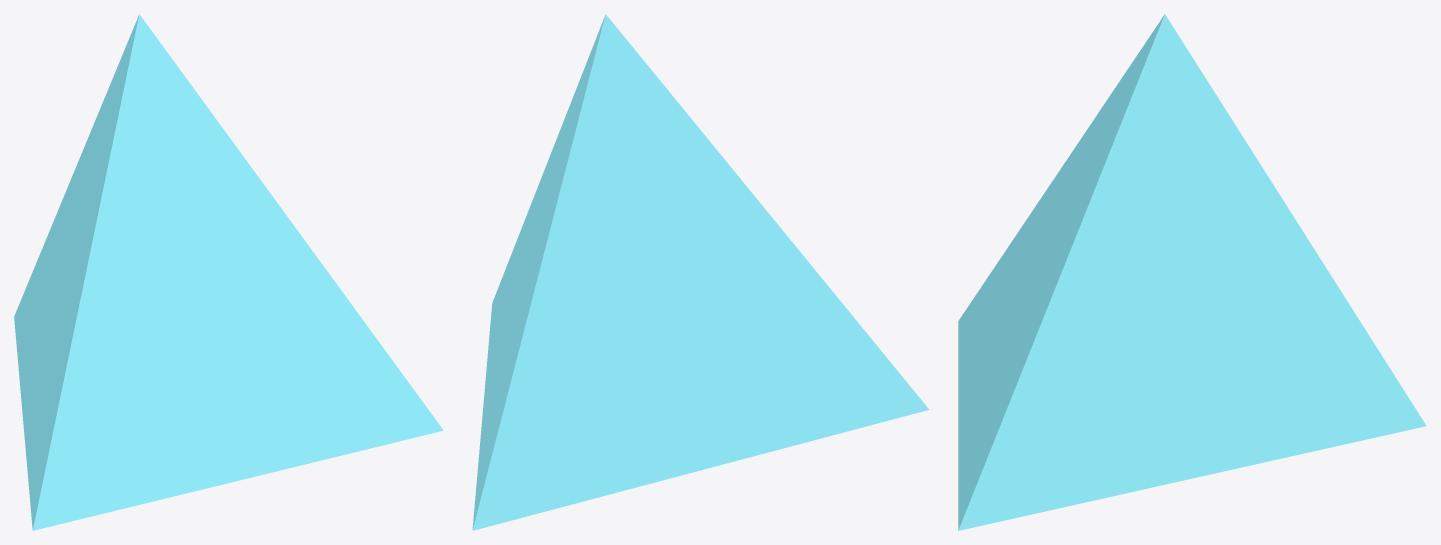
File: voids-test-tetra.glb
The picture shows the model from 3 angles, left to right: view 1: azimuth 30°, elevation 25°; view 2: azimuth 150°, elevation 25°; view 3: azimuth 270°, elevation 25°; orthographic projection. The views are drawn at different scales.
Visible parts, largest first — view 1: VOIDS Test Tetra; view 2: VOIDS Test Tetra; view 3: VOIDS Test Tetra.
Part boxes in pixels (x1=…): VOIDS Test Tetra: x1=14, y1=14, x2=443, y2=530; VOIDS Test Tetra: x1=472, y1=14, x2=929, y2=530; VOIDS Test Tetra: x1=958, y1=14, x2=1426, y2=530.
Bounding box in the file's own units: 1.8 × 1.65 × 1.7.
